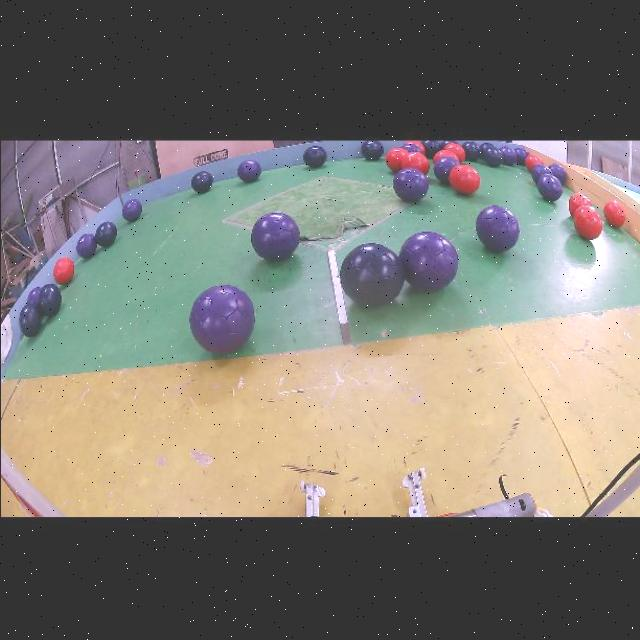B: (339, 242, 404, 305), (398, 230, 458, 289), (19, 301, 41, 335), (37, 281, 60, 312), (94, 220, 117, 245), (302, 144, 326, 166), (190, 169, 212, 191), (360, 139, 383, 158), (462, 139, 480, 160), (421, 139, 439, 157), (439, 139, 456, 147)
P: (188, 282, 254, 352), (399, 230, 458, 289), (250, 211, 300, 259), (475, 204, 519, 250), (392, 166, 428, 200), (433, 154, 459, 182), (536, 173, 561, 200), (236, 158, 260, 180), (76, 231, 96, 256), (121, 197, 141, 220), (481, 145, 502, 165), (531, 162, 551, 182), (548, 161, 566, 183), (498, 144, 517, 164), (514, 145, 528, 163), (26, 285, 41, 301), (400, 141, 421, 151), (479, 140, 494, 154)
R: (447, 162, 480, 192), (573, 204, 602, 238), (400, 150, 429, 173), (603, 199, 625, 226), (385, 145, 407, 170), (53, 255, 73, 282), (568, 191, 590, 214), (443, 141, 464, 160), (432, 148, 458, 161), (524, 152, 543, 169), (404, 139, 424, 152)
